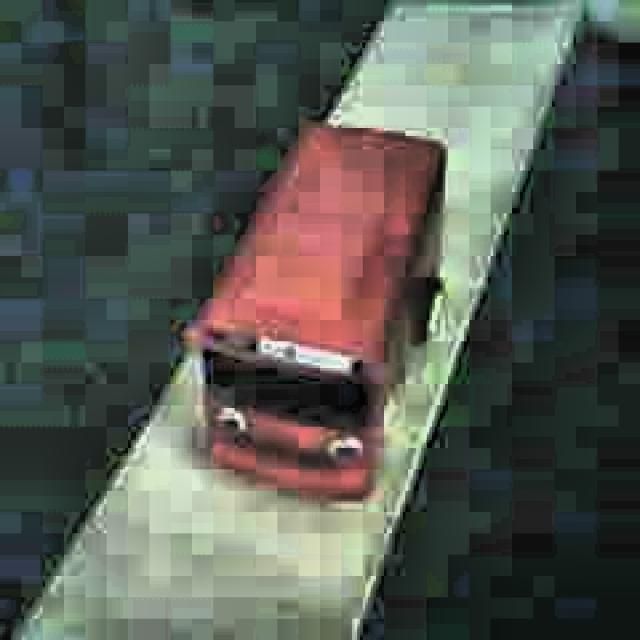bus: (183, 122, 446, 504)
